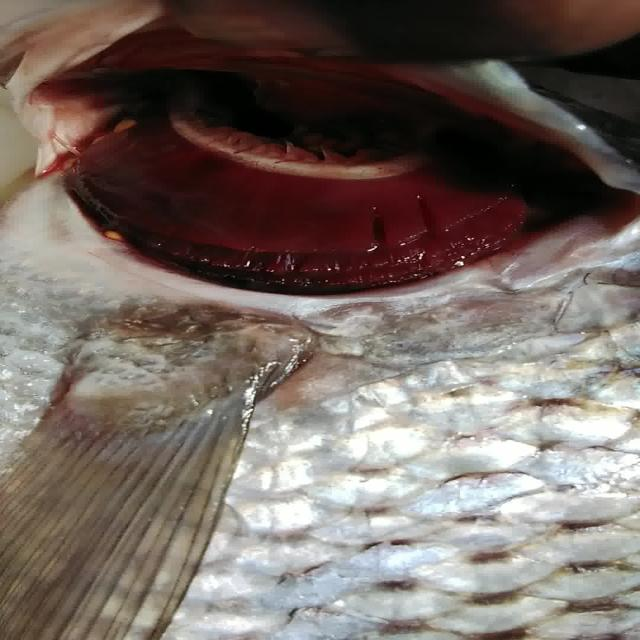Fresh: (44, 92, 624, 314)
